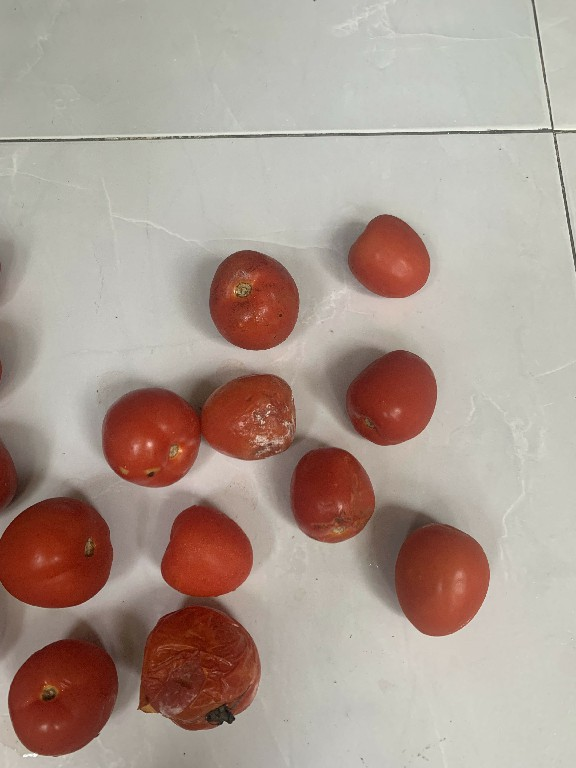NG: (196, 359, 308, 463), (205, 245, 304, 354), (287, 442, 375, 552), (97, 378, 198, 470)
OK: (133, 603, 264, 736), (0, 631, 118, 756), (381, 516, 497, 643), (0, 490, 111, 618), (339, 341, 440, 450), (155, 499, 255, 596), (340, 212, 436, 300)
